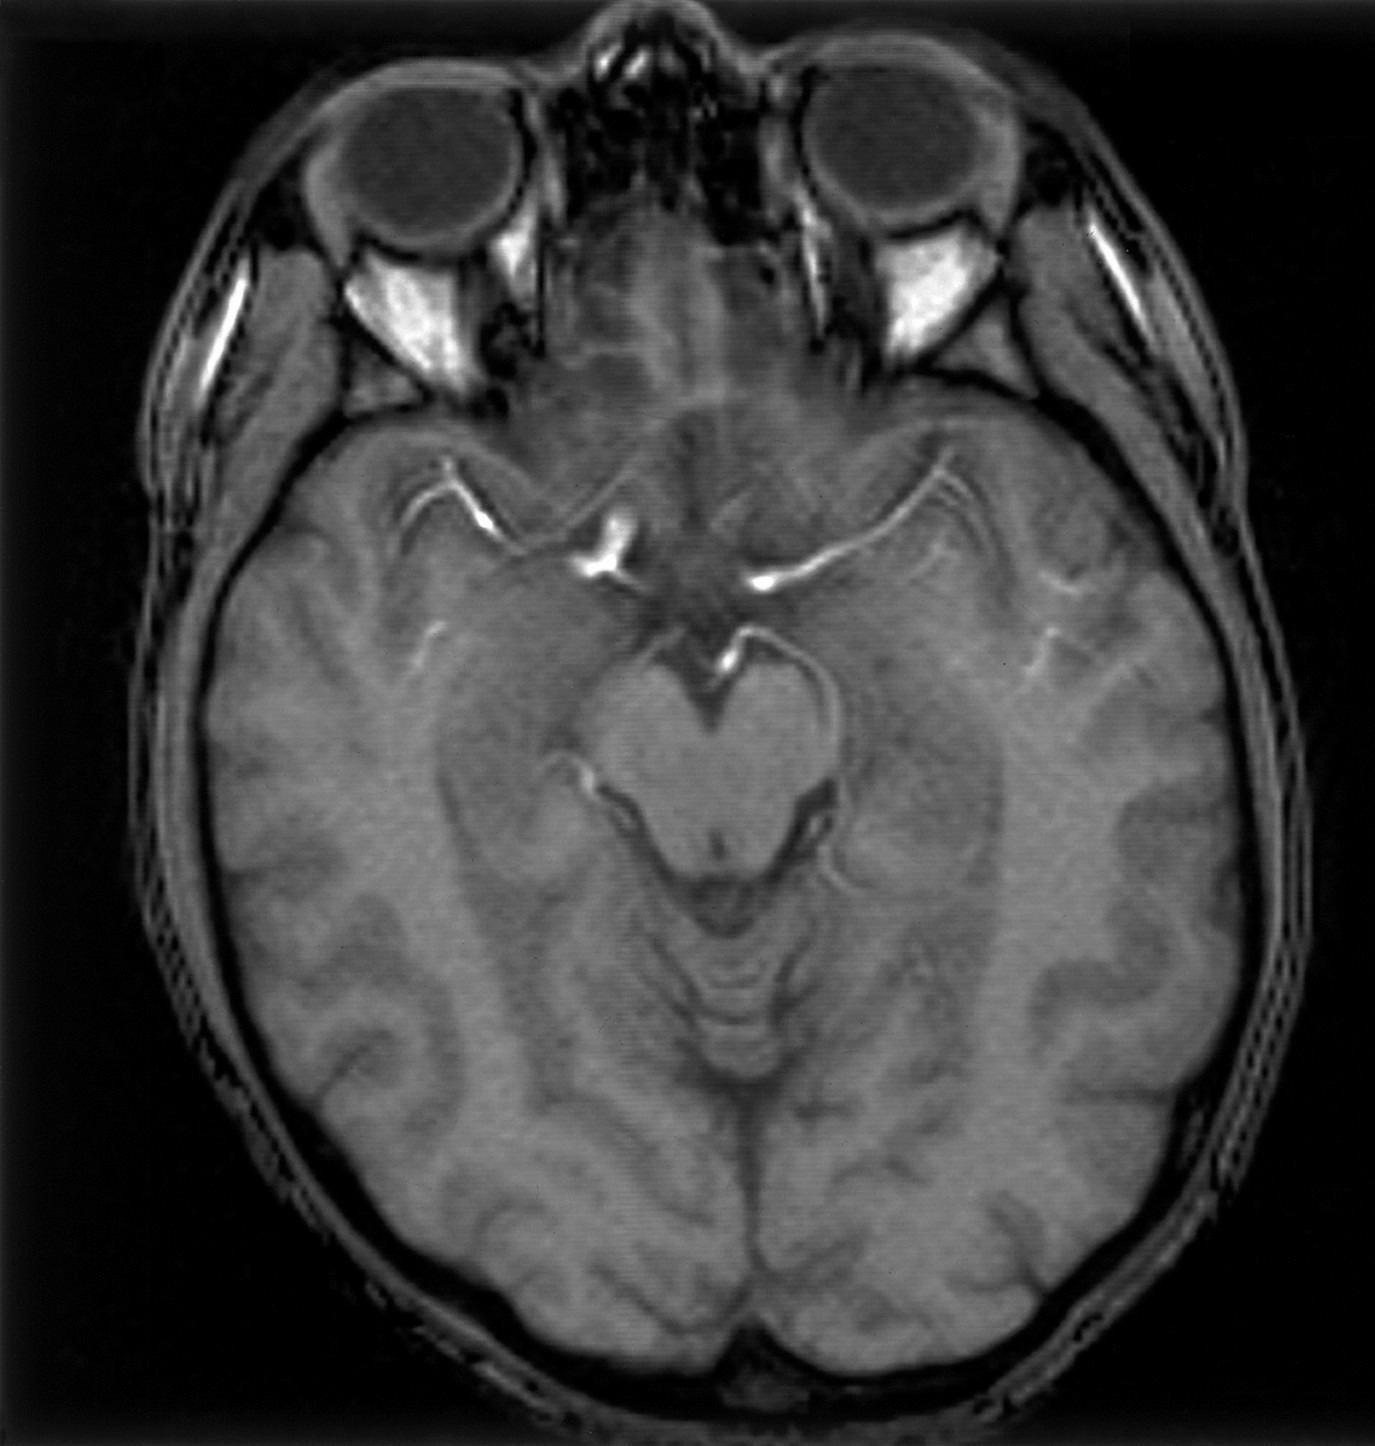Normal_Brain: (43, 1, 1348, 1446)
